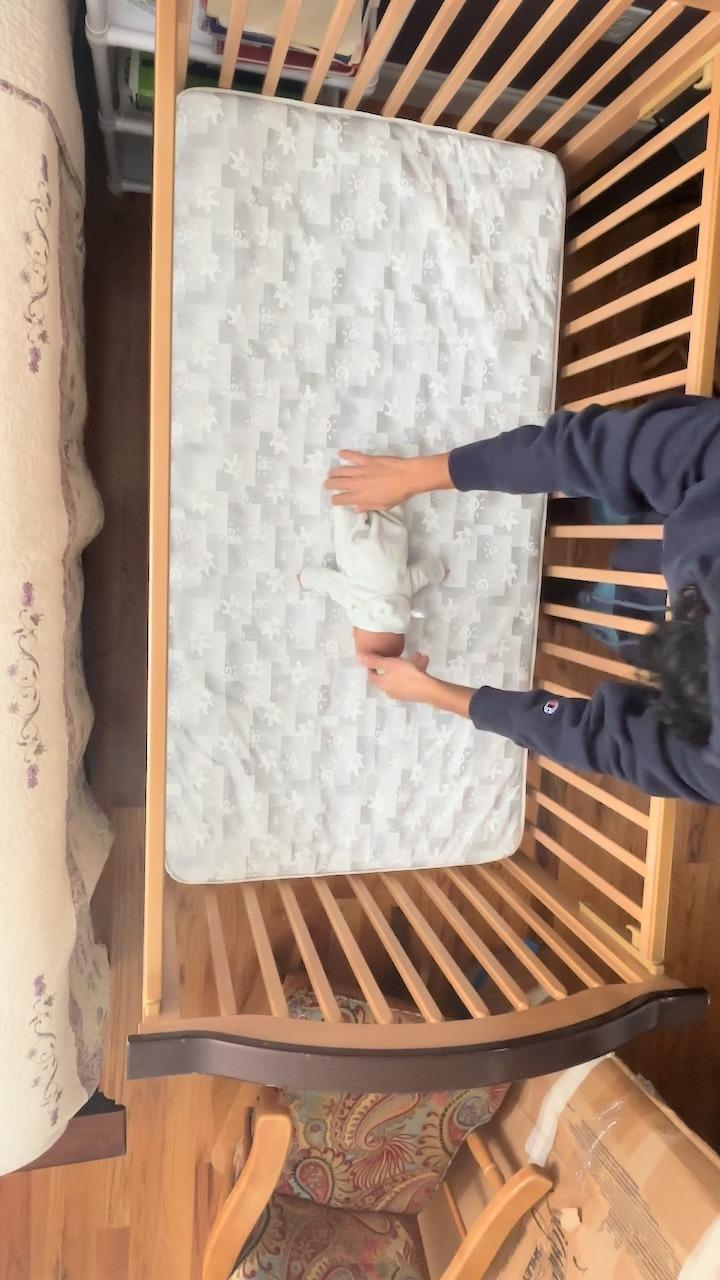baby: (296, 466, 450, 666)
